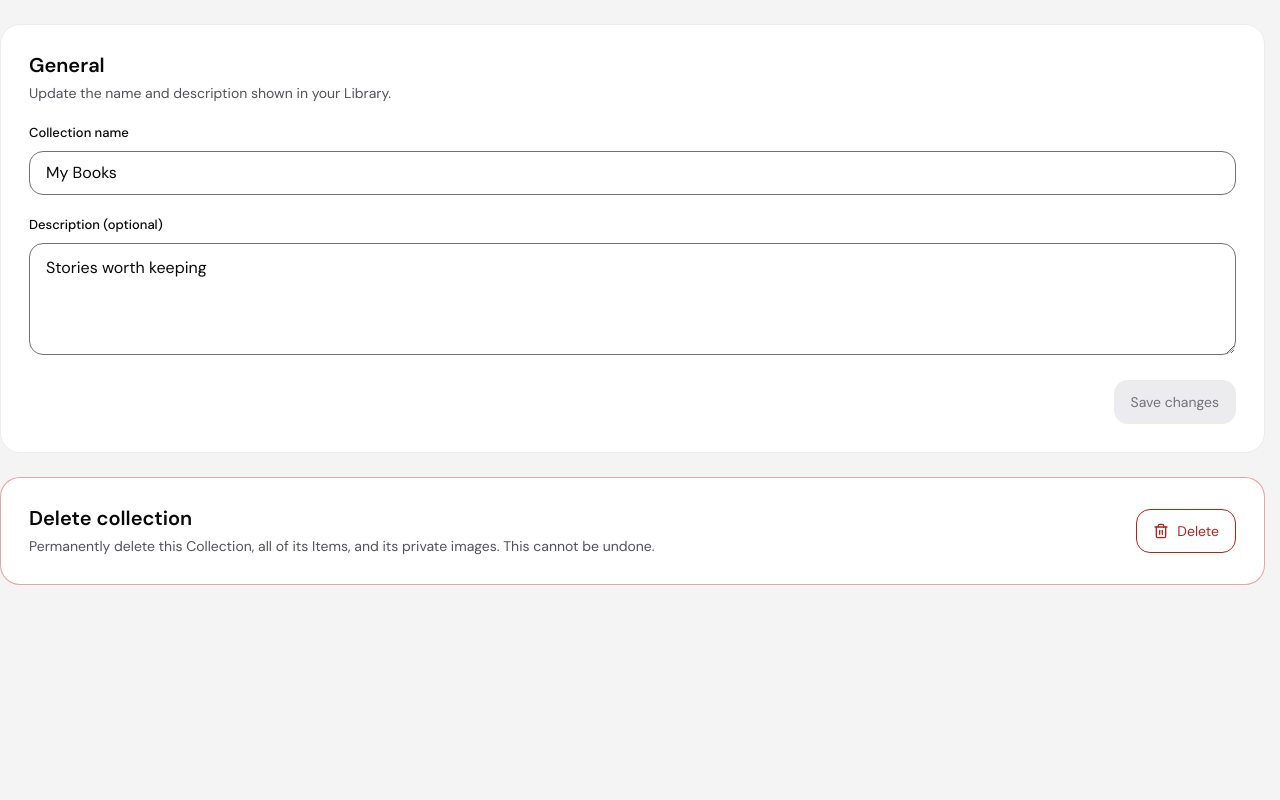
Scenario: Collection settings › reveals typed confirmation when an empty Collection becomes populated
Click the button with aria-label "Delete collection" at (1186, 531), box [1136,509,1236,553]
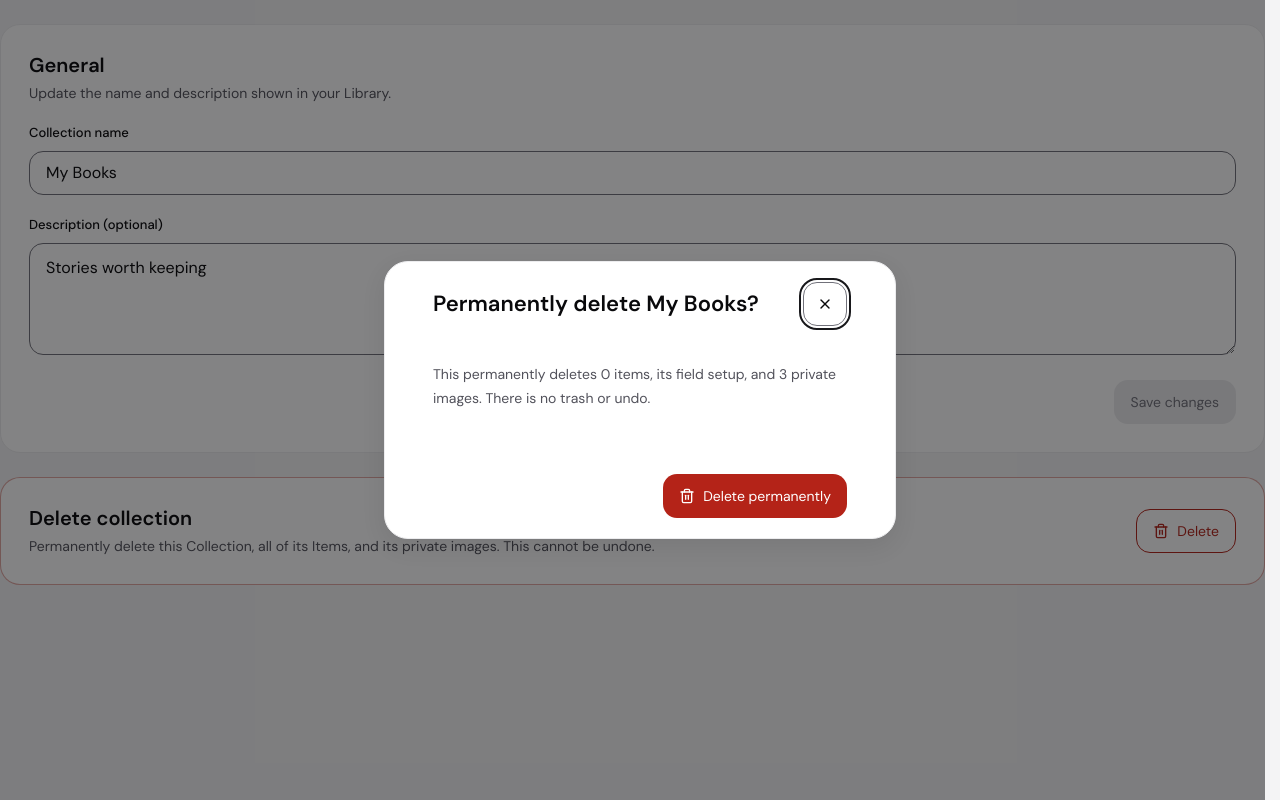
Click the button "Delete permanently" at (755, 496), box [663,474,847,518]
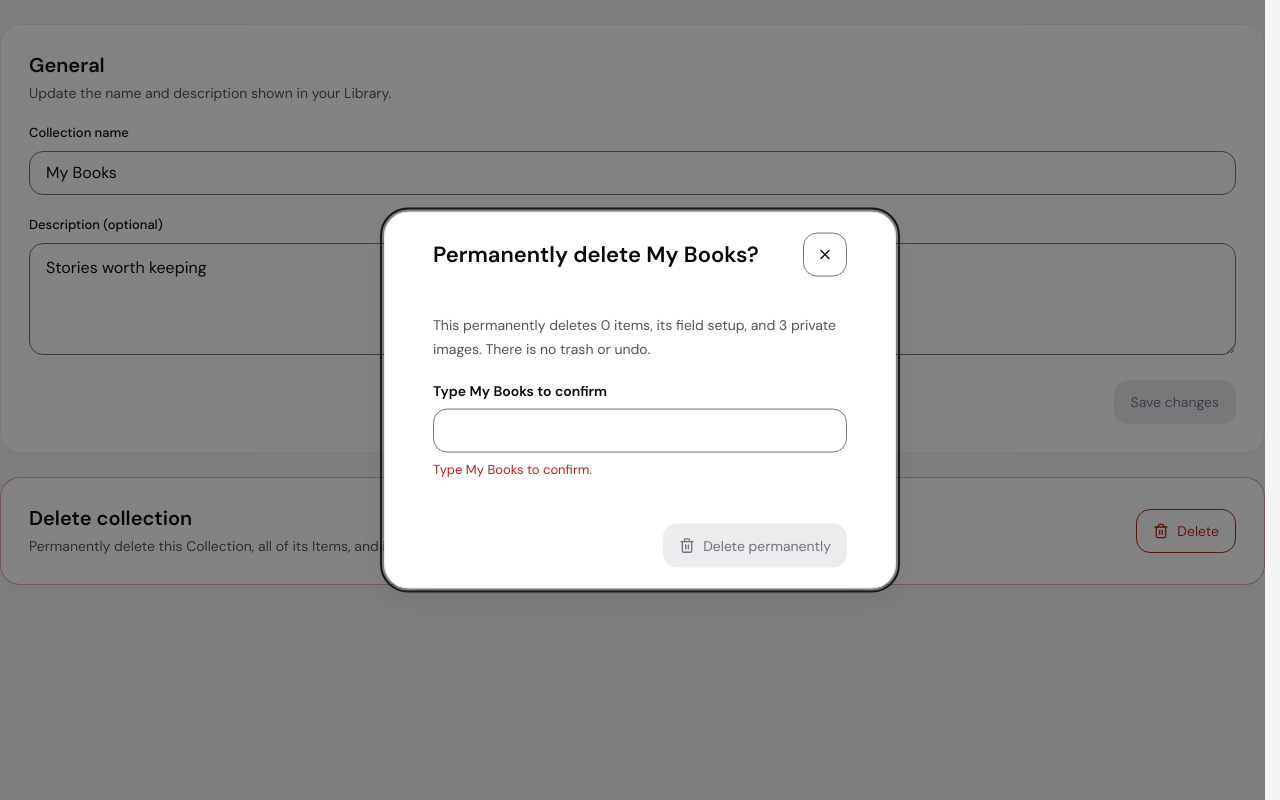
Result: the field labelled "Type My Books to confirm" is shown at [433,409,847,453]
